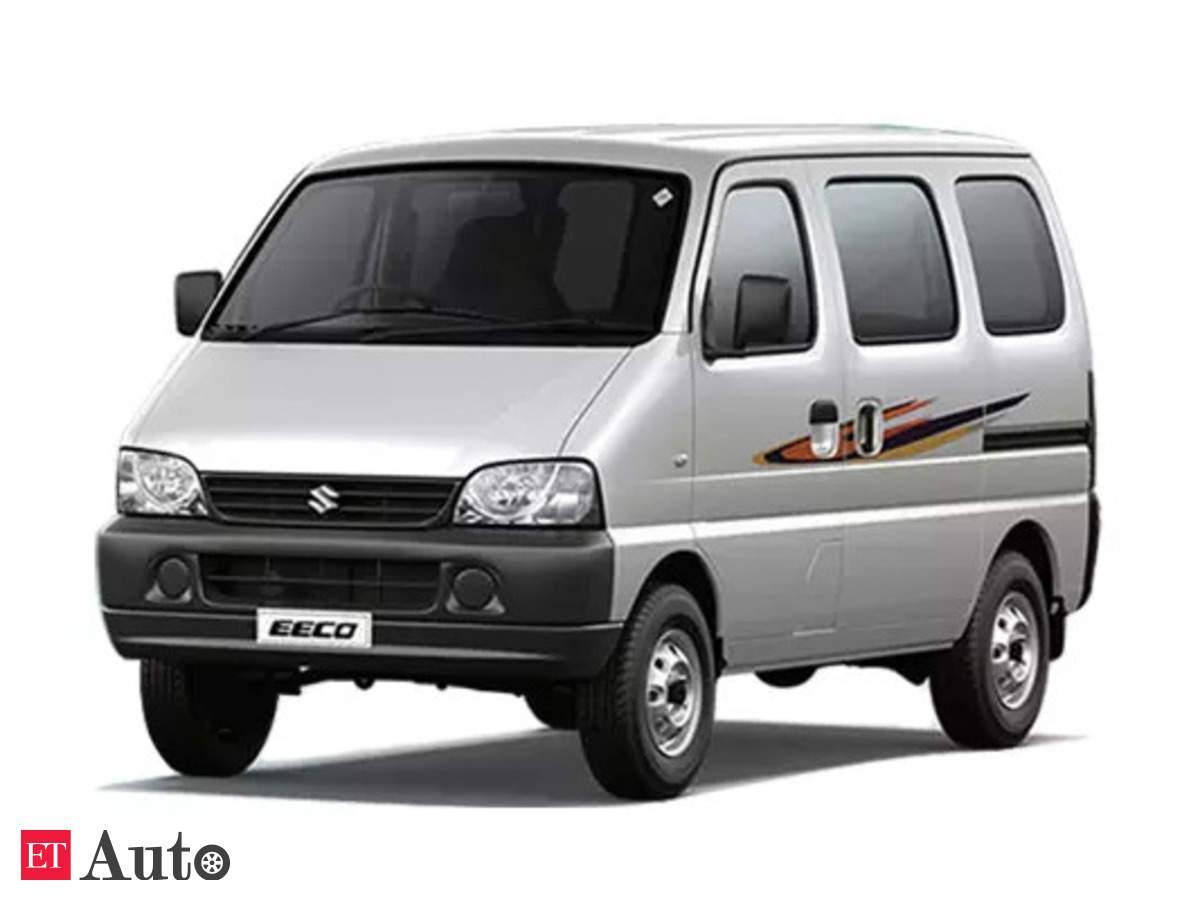van: (95, 120, 1101, 803)
